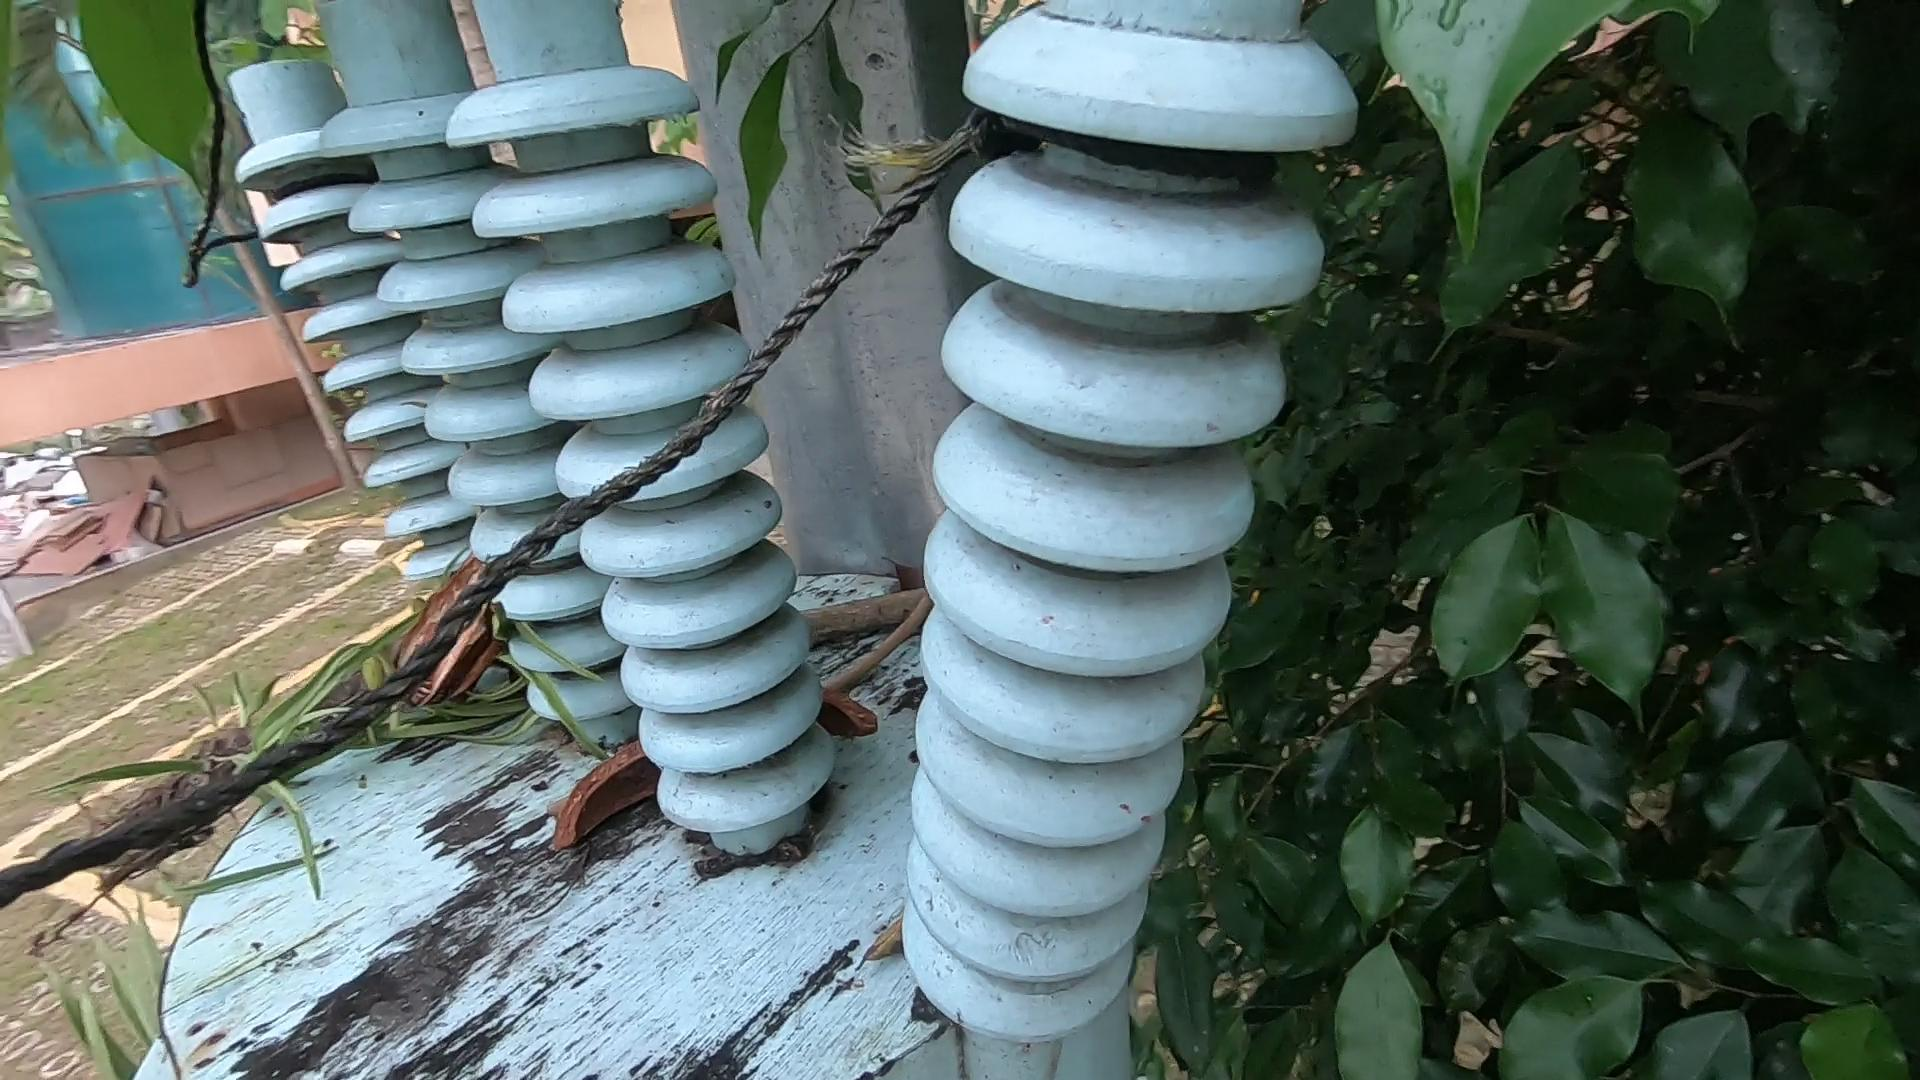branch with leaves: (54, 388, 874, 945)
mahogany fruit: (372, 534, 570, 735), (554, 778, 724, 924)
tree branch: (795, 555, 928, 721)
